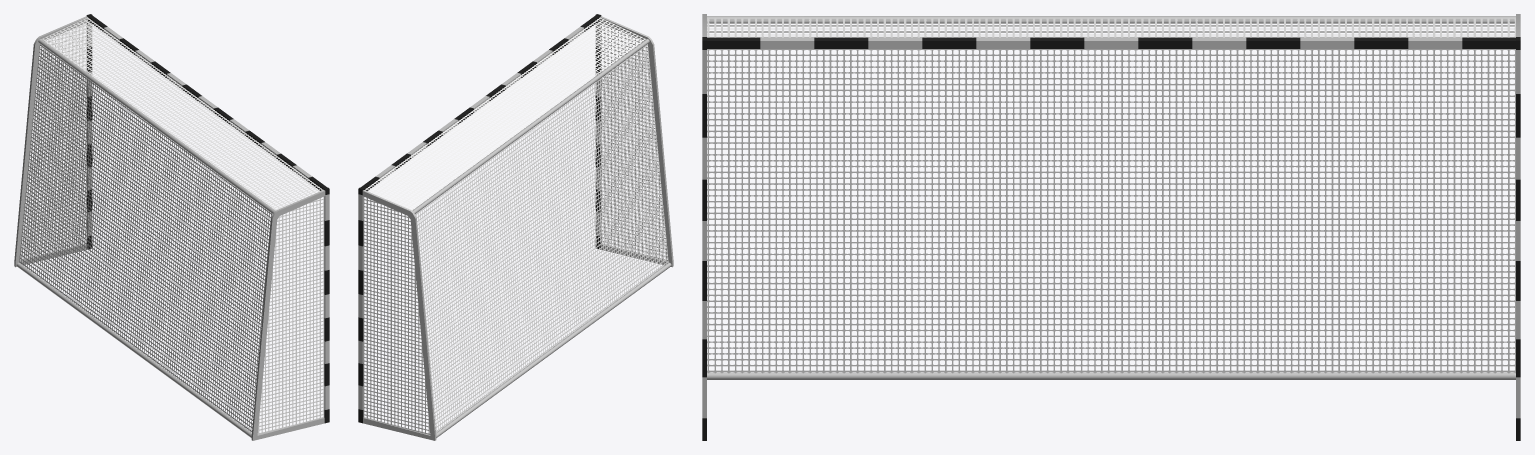
The picture shows the model from 3 angles, left to right: view 1: azimuth 30°, elevation 25°; view 2: azimuth 150°, elevation 25°; view 3: azimuth 270°, elevation 25°; orthographic projection. The views are drawn at different scales.
Parts seen in each view (by area): view 1: Object002_setka_0, Object002_white metal_0, Object002_black metal_0; view 2: Object002_setka_0, Object002_white metal_0, Object002_black metal_0; view 3: Object002_setka_0, Object002_white metal_0, Object002_black metal_0.
Part boxes in pixels (x1=…): Object002_setka_0: x1=19, y1=17, x2=324, y2=434; Object002_white metal_0: x1=14, y1=16, x2=329, y2=440; Object002_black metal_0: x1=86, y1=14, x2=329, y2=423; Object002_setka_0: x1=363, y1=17, x2=668, y2=434; Object002_white metal_0: x1=358, y1=16, x2=673, y2=440; Object002_black metal_0: x1=358, y1=14, x2=601, y2=423; Object002_setka_0: x1=707, y1=18, x2=1515, y2=373; Object002_white metal_0: x1=702, y1=14, x2=1520, y2=418; Object002_black metal_0: x1=702, y1=37, x2=1520, y2=440.
Size of the model in its own units: 1.33 by 3.88 by 7.17.
3 materials, 1 textured.
